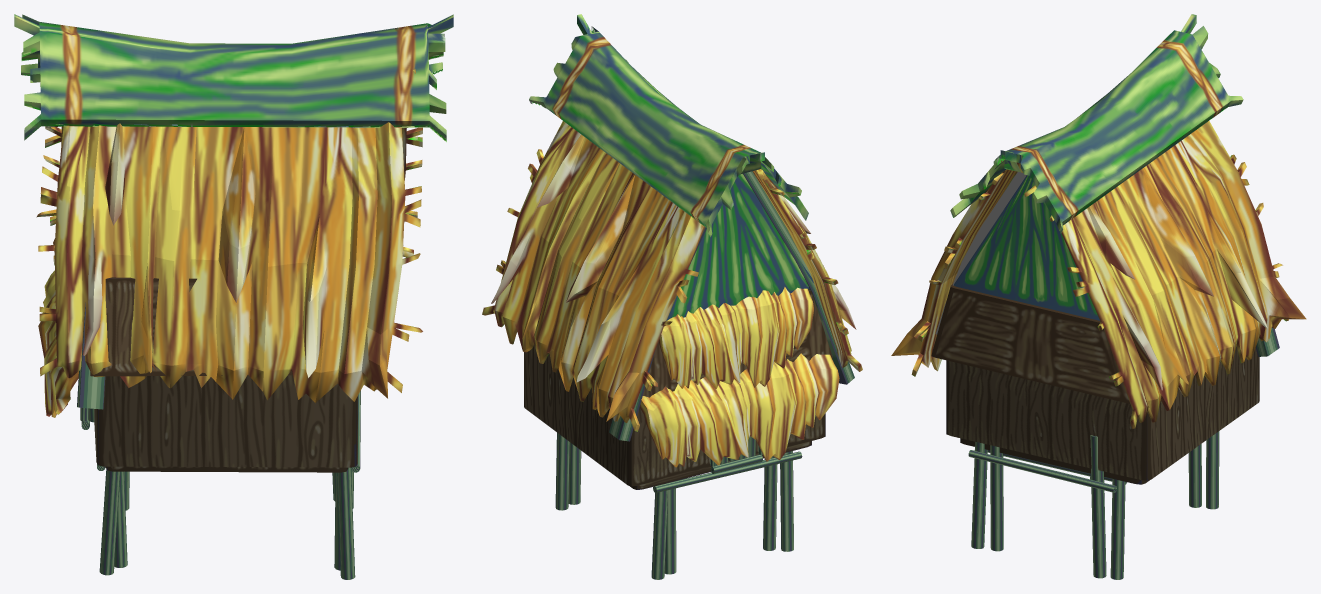
Rendered from Porte Maison.FBX.
The picture shows the model from 3 angles, left to right: view 1: azimuth 30°, elevation 25°; view 2: azimuth 150°, elevation 25°; view 3: azimuth 270°, elevation 25°; orthographic projection. The views are drawn at different scales.
Visible parts, largest first — view 1: maison porte; view 2: maison porte; view 3: maison porte.
Part boxes in pixels (<box>): maison porte: <box>14,14,453,579</box>; maison porte: <box>482,14,862,579</box>; maison porte: <box>891,14,1306,579</box>.
Size of the model in its own units: 294 by 357 by 301.
